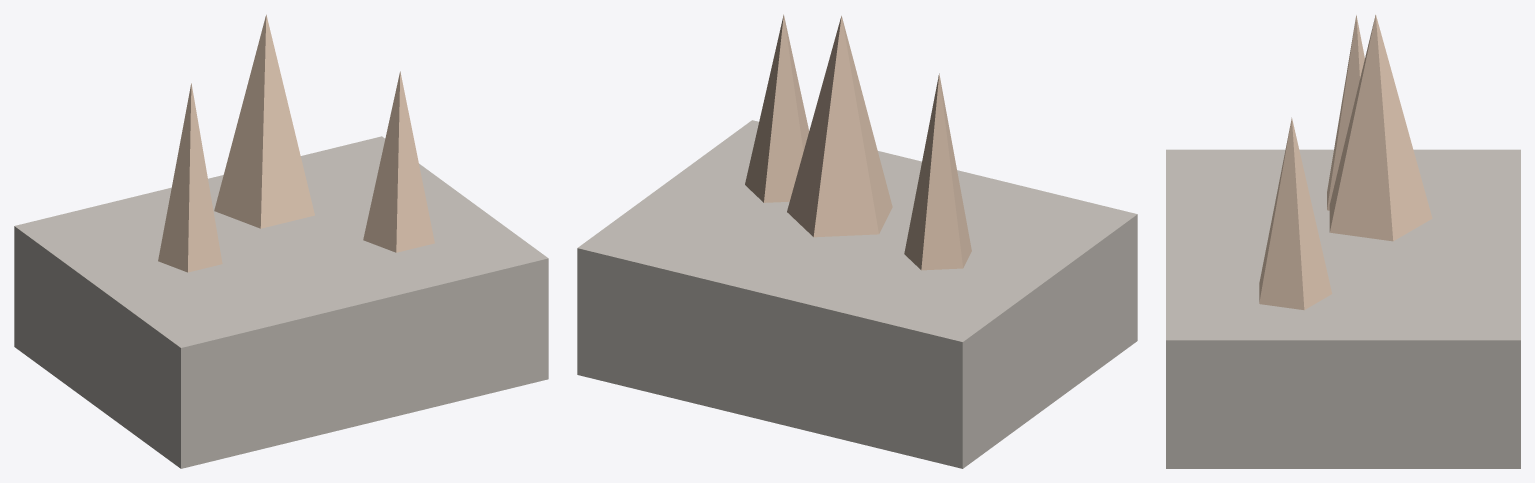
The model's file is deposit.glb.
3 renders of one model, left to right at view 1: azimuth 30°, elevation 25°; view 2: azimuth 150°, elevation 25°; view 3: azimuth 270°, elevation 25°, orthographic. The views are drawn at different scales.
Parts seen in each view (by area): view 1: Deposit; view 2: Deposit; view 3: Deposit.
Part boxes in pixels (x1=…): Deposit: x1=14, y1=14, x2=548, y2=468; Deposit: x1=577, y1=14, x2=1137, y2=468; Deposit: x1=1166, y1=14, x2=1520, y2=468.
Size of the model in its own units: 0.7 by 0.615 by 0.55.
